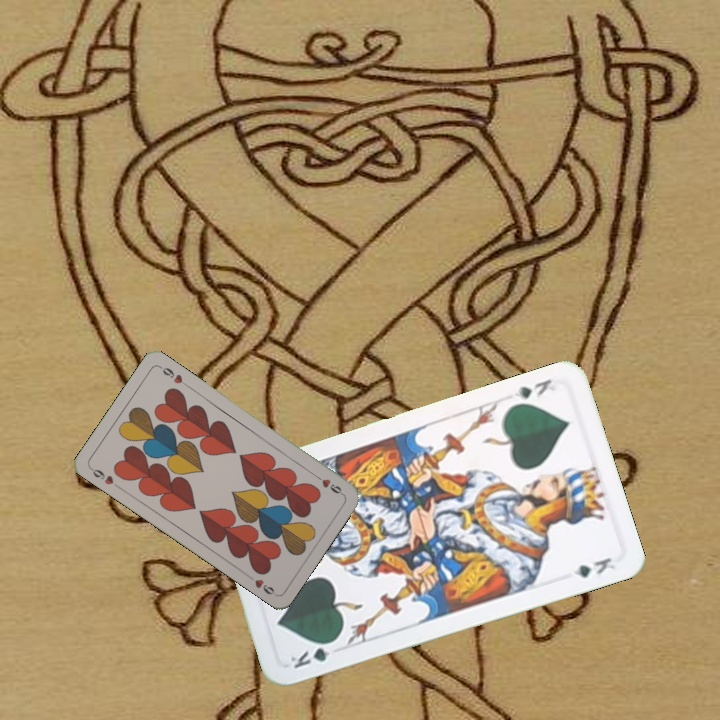GK: (286, 636, 340, 671), (510, 375, 555, 402)
H9: (86, 463, 122, 491), (310, 470, 346, 497)
